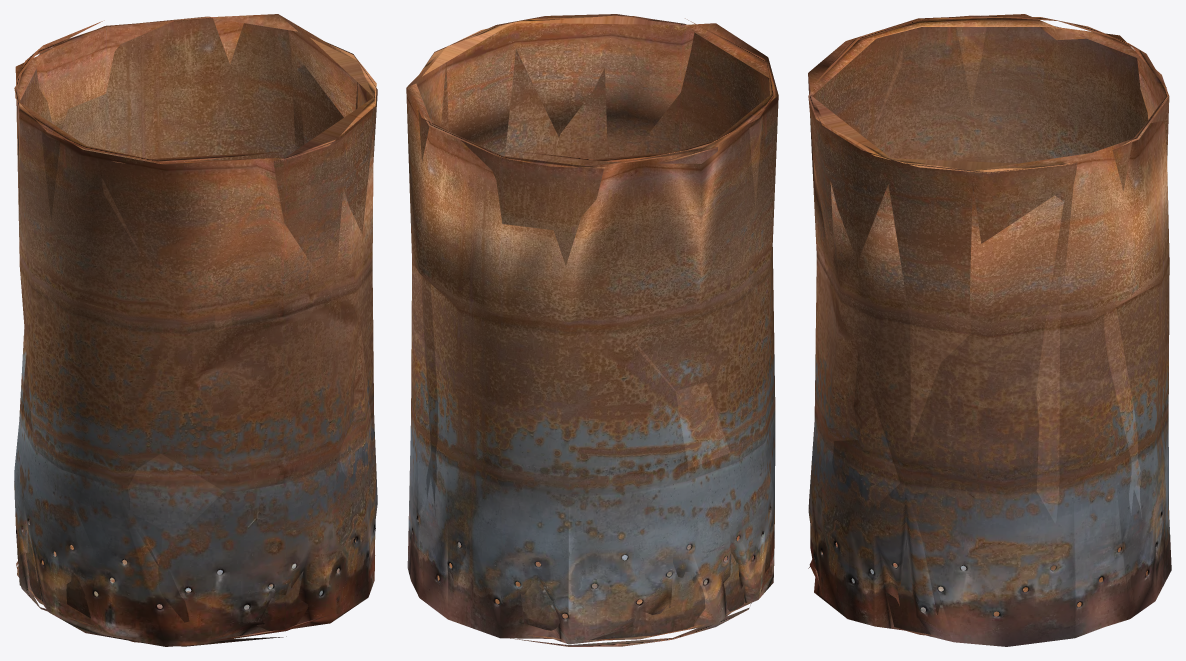
Rendered from barrel_stove.glb.
The picture shows the model from 3 angles, left to right: view 1: azimuth 30°, elevation 25°; view 2: azimuth 150°, elevation 25°; view 3: azimuth 270°, elevation 25°; orthographic projection.
Visible parts, largest first — view 1: barrel_stove; view 2: barrel_stove; view 3: barrel_stove.
Boxes of the visible parts, x1=… form: barrel_stove: x1=14, y1=14, x2=377, y2=646; barrel_stove: x1=406, y1=14, x2=778, y2=646; barrel_stove: x1=808, y1=14, x2=1171, y2=646.
Size of the model in its own units: 0.5815 by 0.8539 by 0.5828.
Materials: 1 (1 with a texture image).
